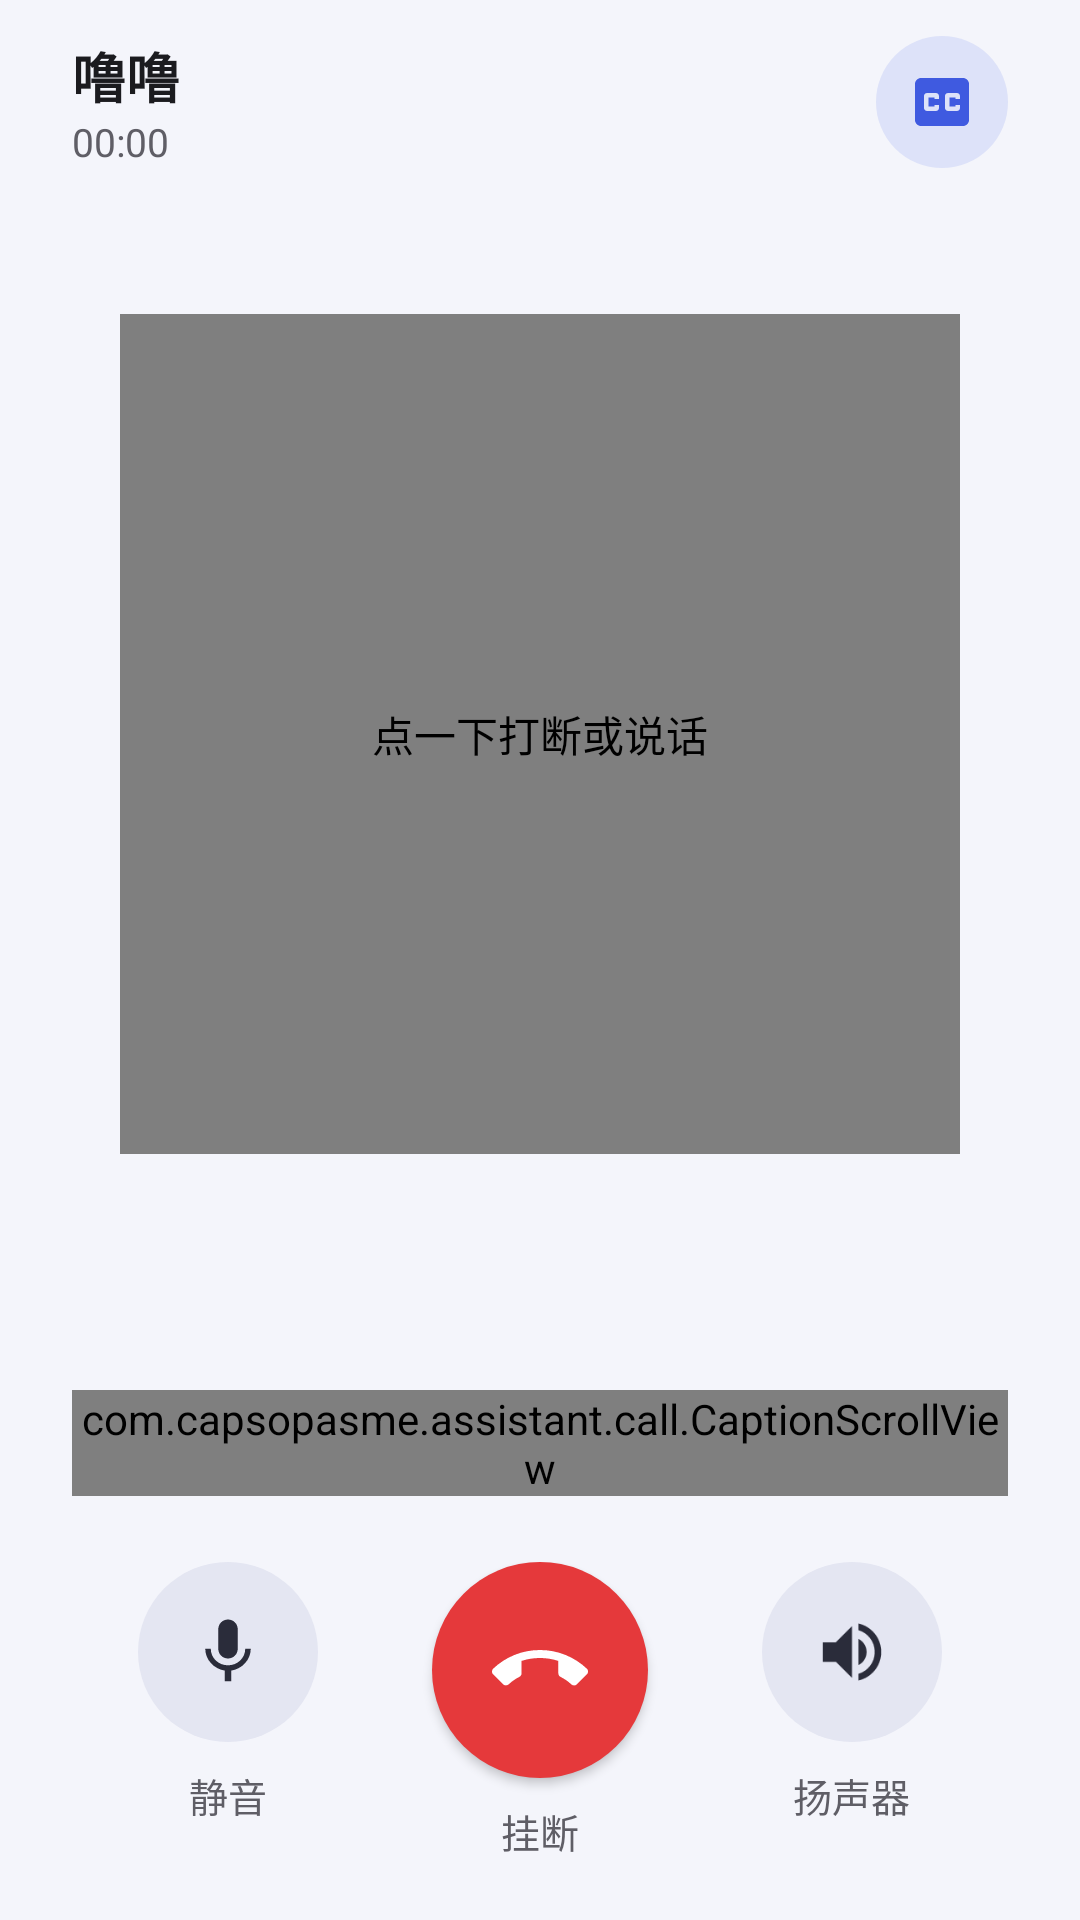

Icon click points for this 1080*1920 phone screenshot, format point (x, y):
字幕: point (942, 102)
